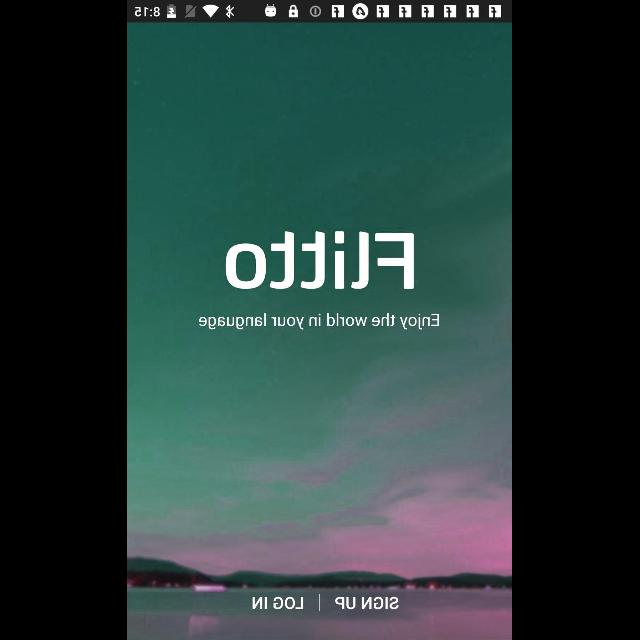backgroundimage: (128, 22, 512, 640)
text: (226, 231, 414, 289), (200, 314, 440, 331), (336, 596, 400, 610), (252, 596, 304, 610)
uppertaskbar: (128, 1, 512, 23)
